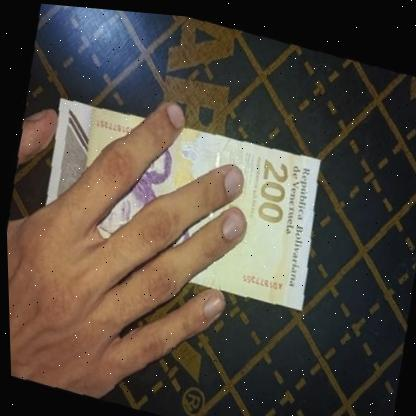two_hundred-front-vef: (28, 77, 333, 313)
